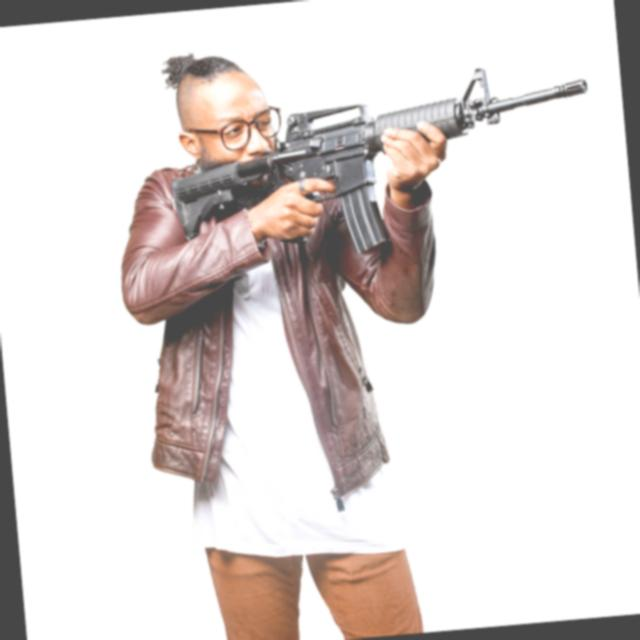rifle: (154, 48, 603, 201)
